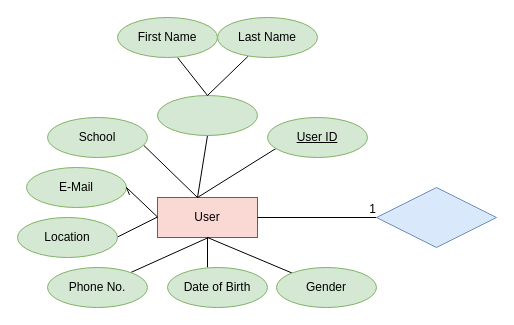
The diagram is 514 pixels wide and 325 high, and some of its shapes have lost their labels. Each missing label, with the centre of its shape:
"Have" goes at pixel 436 217.
"Name" goes at pixel 207 115.
